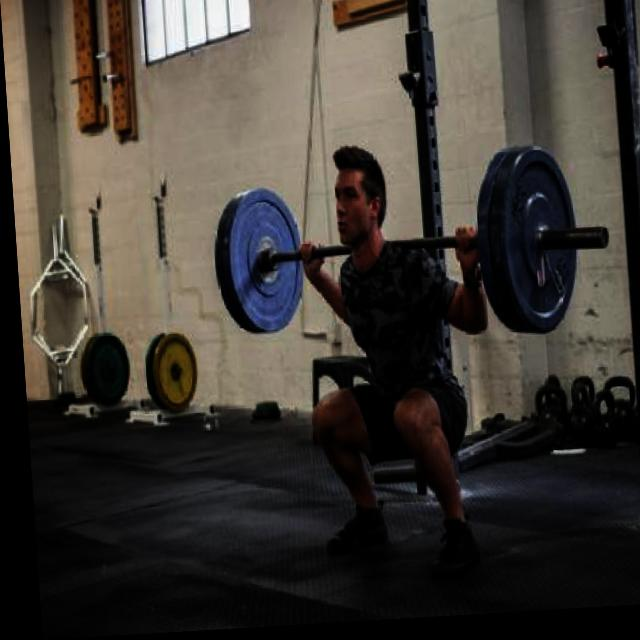barbell: (490, 148, 613, 342)
